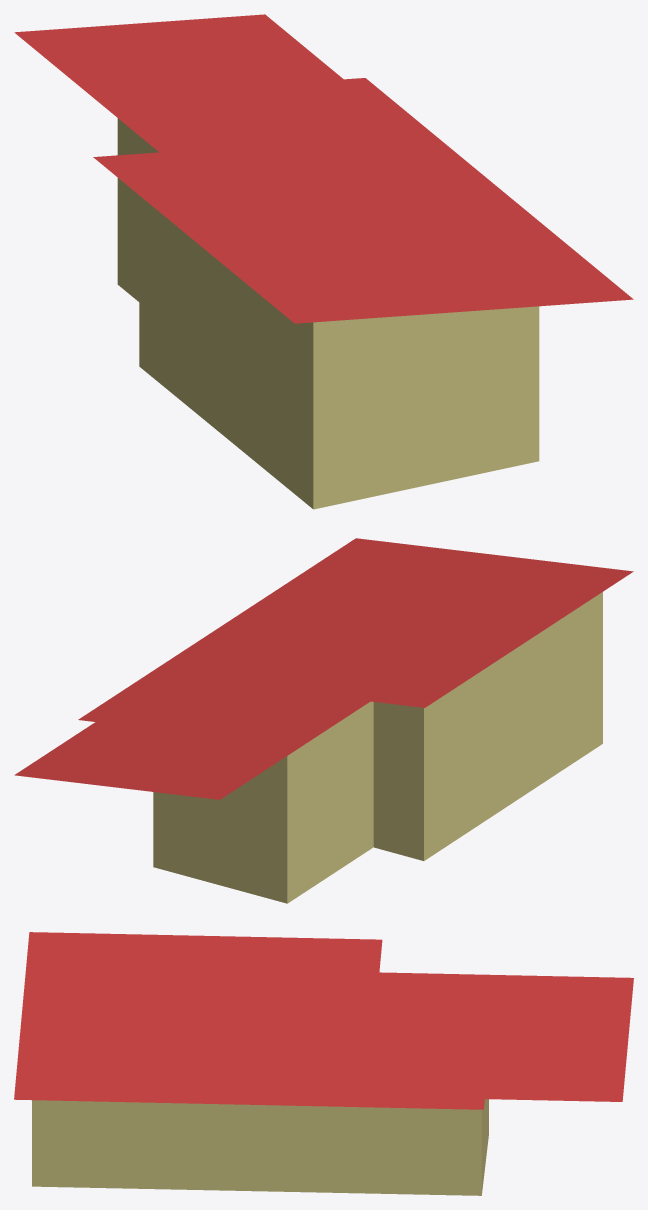
3 renders of one model, top to bottom at view 1: azimuth 30°, elevation 25°; view 2: azimuth 150°, elevation 25°; view 3: azimuth 270°, elevation 25°, orthographic. The views are drawn at different scales.
Size of the model in its own units: 16.3 by 30.84 by 8.71.
